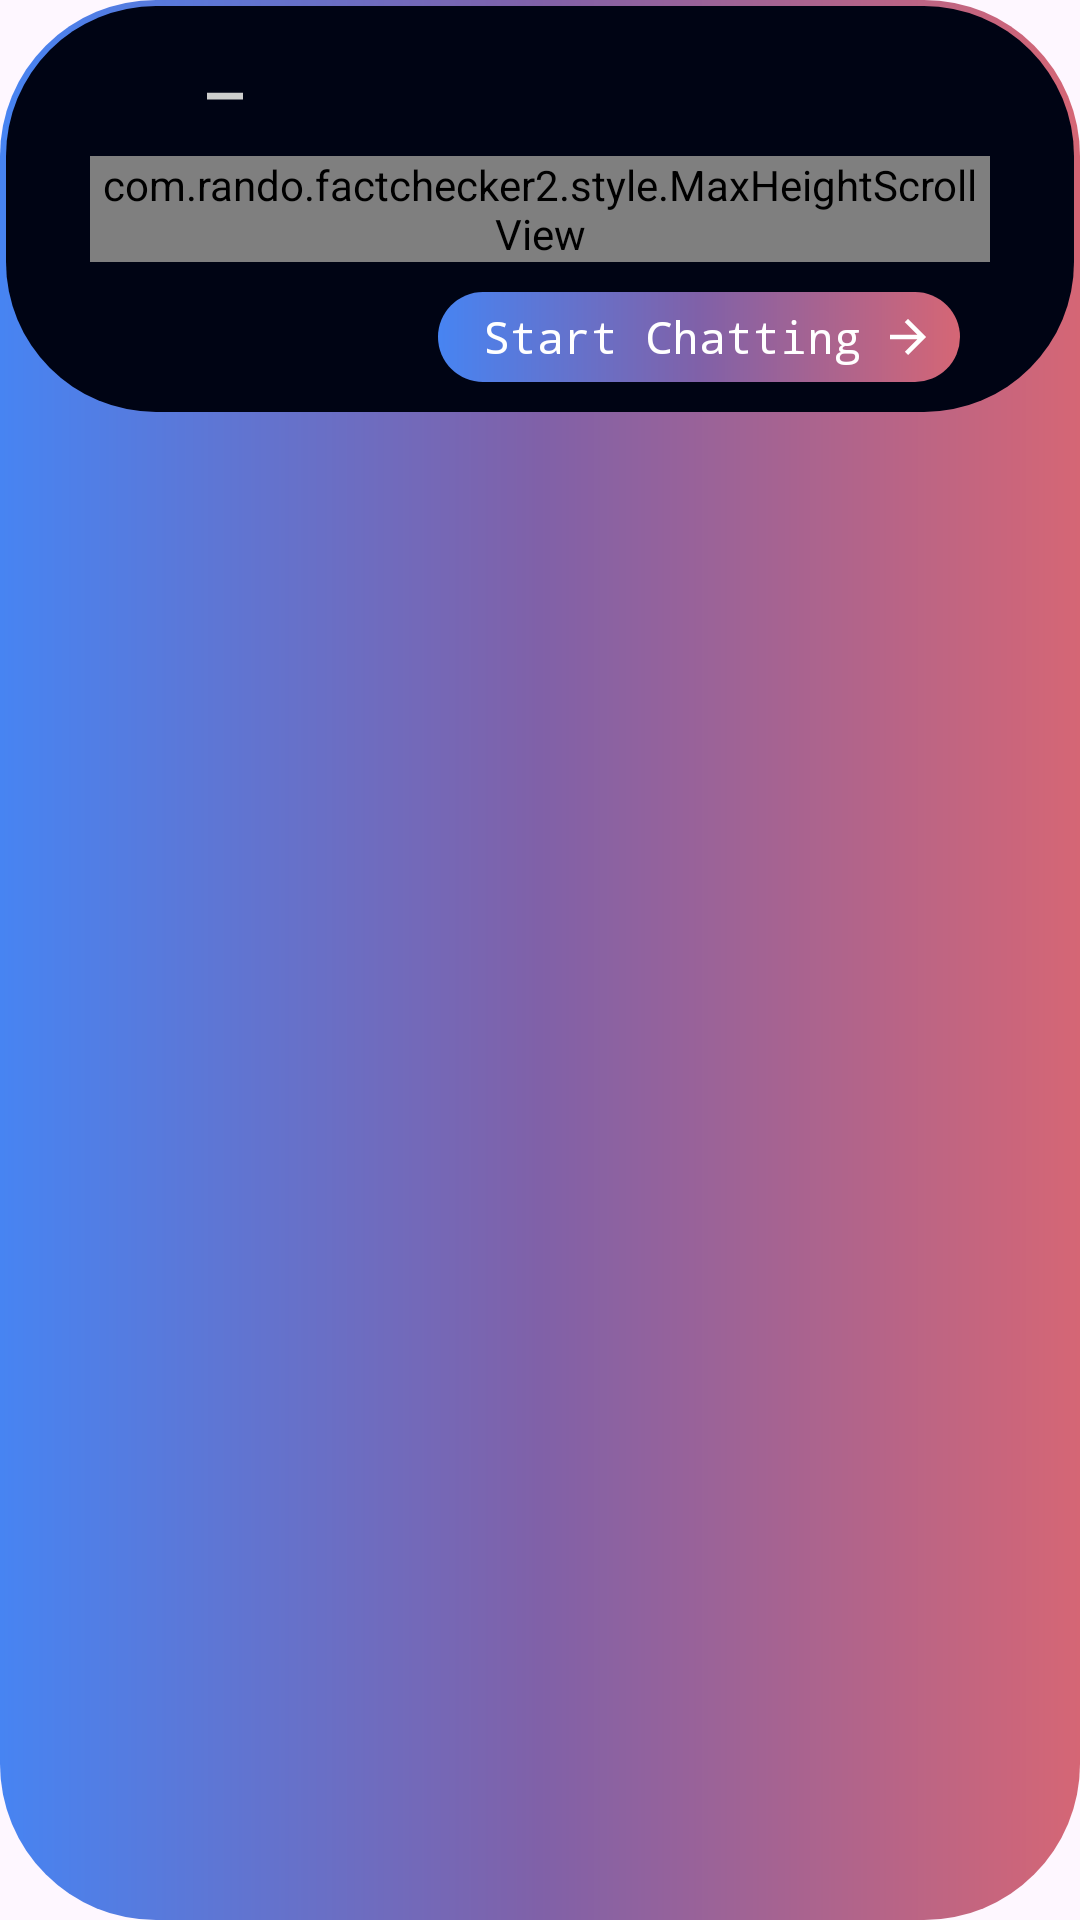

Screen size 1080x1920. Icon name, then its center in pixels as (x,y):
minimize: (225,96)
next: (917,336)
